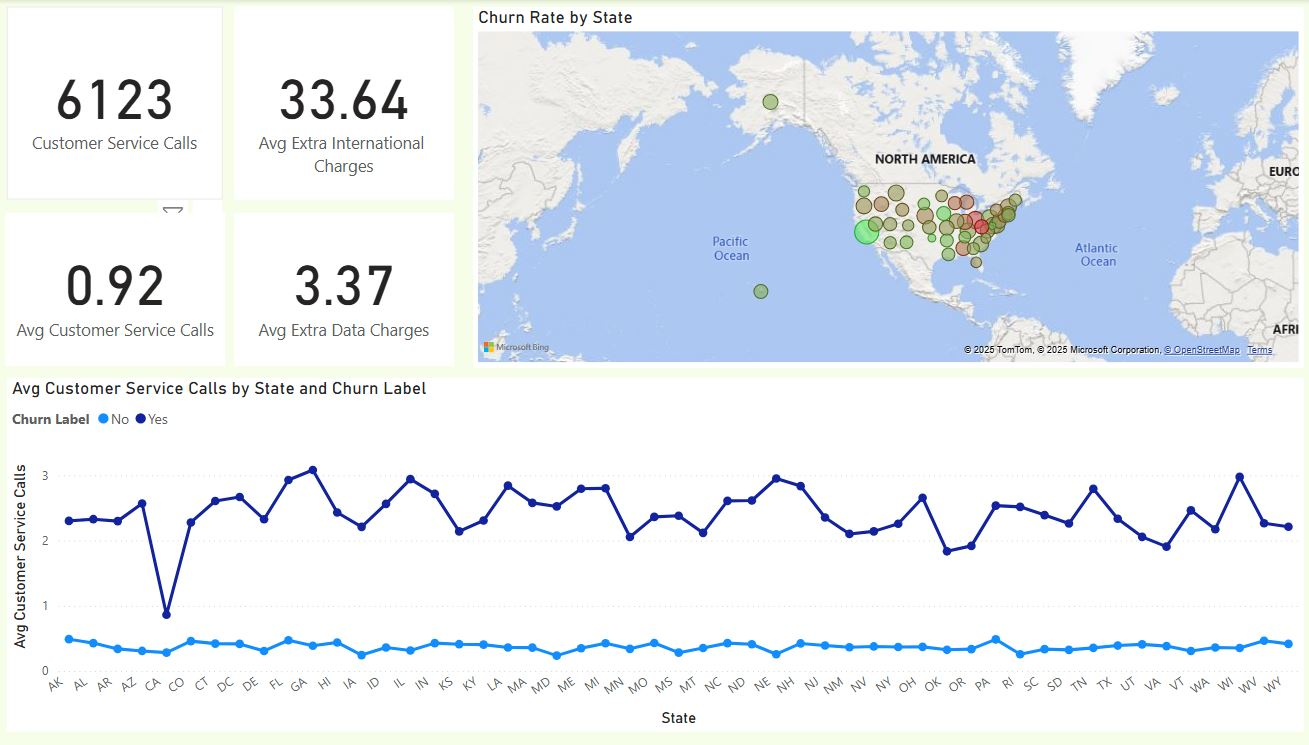

Layout of this report page (visuals, bound fields, positions):
{"tool":"powerbi","page":{"name":"Insights","canvas":[1280,720],"ordinal":9},"visuals":[{"type":"card","fields":{"Values":["Sum(Databel - Data.Customer Service Calls)"]},"box":[13.3,6.7,208.3,186.7],"z":0},{"type":"card","fields":{"Values":["Databel - Data.Avg Customer Service Calls"]},"box":[11.7,206.7,211.7,148.3],"z":1000},{"type":"card","fields":{"Values":["Databel - Data.Avg Extra International Charges"]},"box":[233.3,6.7,211.7,186.7],"z":2000},{"type":"card","fields":{"Values":["Databel - Data.Avg Extra Data Charges"]},"box":[233.3,206.7,211.7,148.3],"z":3000},{"type":"lineChart","fields":{"Category":["Databel - Data.State"],"Y":["Databel - Data.Avg Customer Service Calls"],"Series":["Databel - Data.Churn Label"]},"box":[13.3,365,1251.7,341.7],"z":4000},{"type":"map","fields":{"Category":["Databel - Data.State"],"Size":["Databel - Data.Churn Rate"]},"box":[463.3,6.7,801.7,348.3],"z":5000}]}

Visuals, with their boxes in screenshot pixels (x1, y1, x2, y2), scaled from the page's 1280x720 canvas onto the 1309x745 screenshot:
card - Sum(Databel - Data.Customer Service Calls): [left=14, top=7, right=227, bottom=200]
card - Databel - Data.Avg Customer Service Calls: [left=12, top=214, right=228, bottom=367]
card - Databel - Data.Avg Extra International Charges: [left=239, top=7, right=455, bottom=200]
card - Databel - Data.Avg Extra Data Charges: [left=239, top=214, right=455, bottom=367]
lineChart - Databel - Data.State x Databel - Data.Avg Customer Service Calls: [left=14, top=378, right=1294, bottom=731]
map - Databel - Data.State x Databel - Data.Churn Rate: [left=474, top=7, right=1294, bottom=367]
